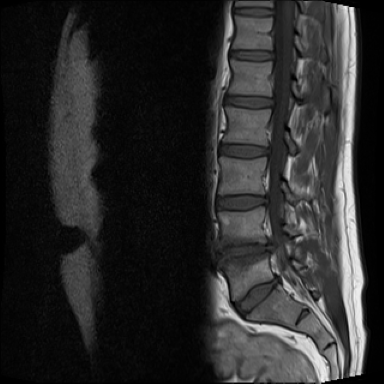Lumbar Disc Bulge (LDB): (228, 269, 291, 323), (211, 230, 285, 269)
Normal IVD: (206, 187, 268, 216), (210, 137, 271, 162), (220, 88, 275, 112), (222, 44, 276, 65), (229, 5, 275, 19)
Spinal Stenosis (SS): (249, 225, 282, 270), (260, 268, 287, 296)
